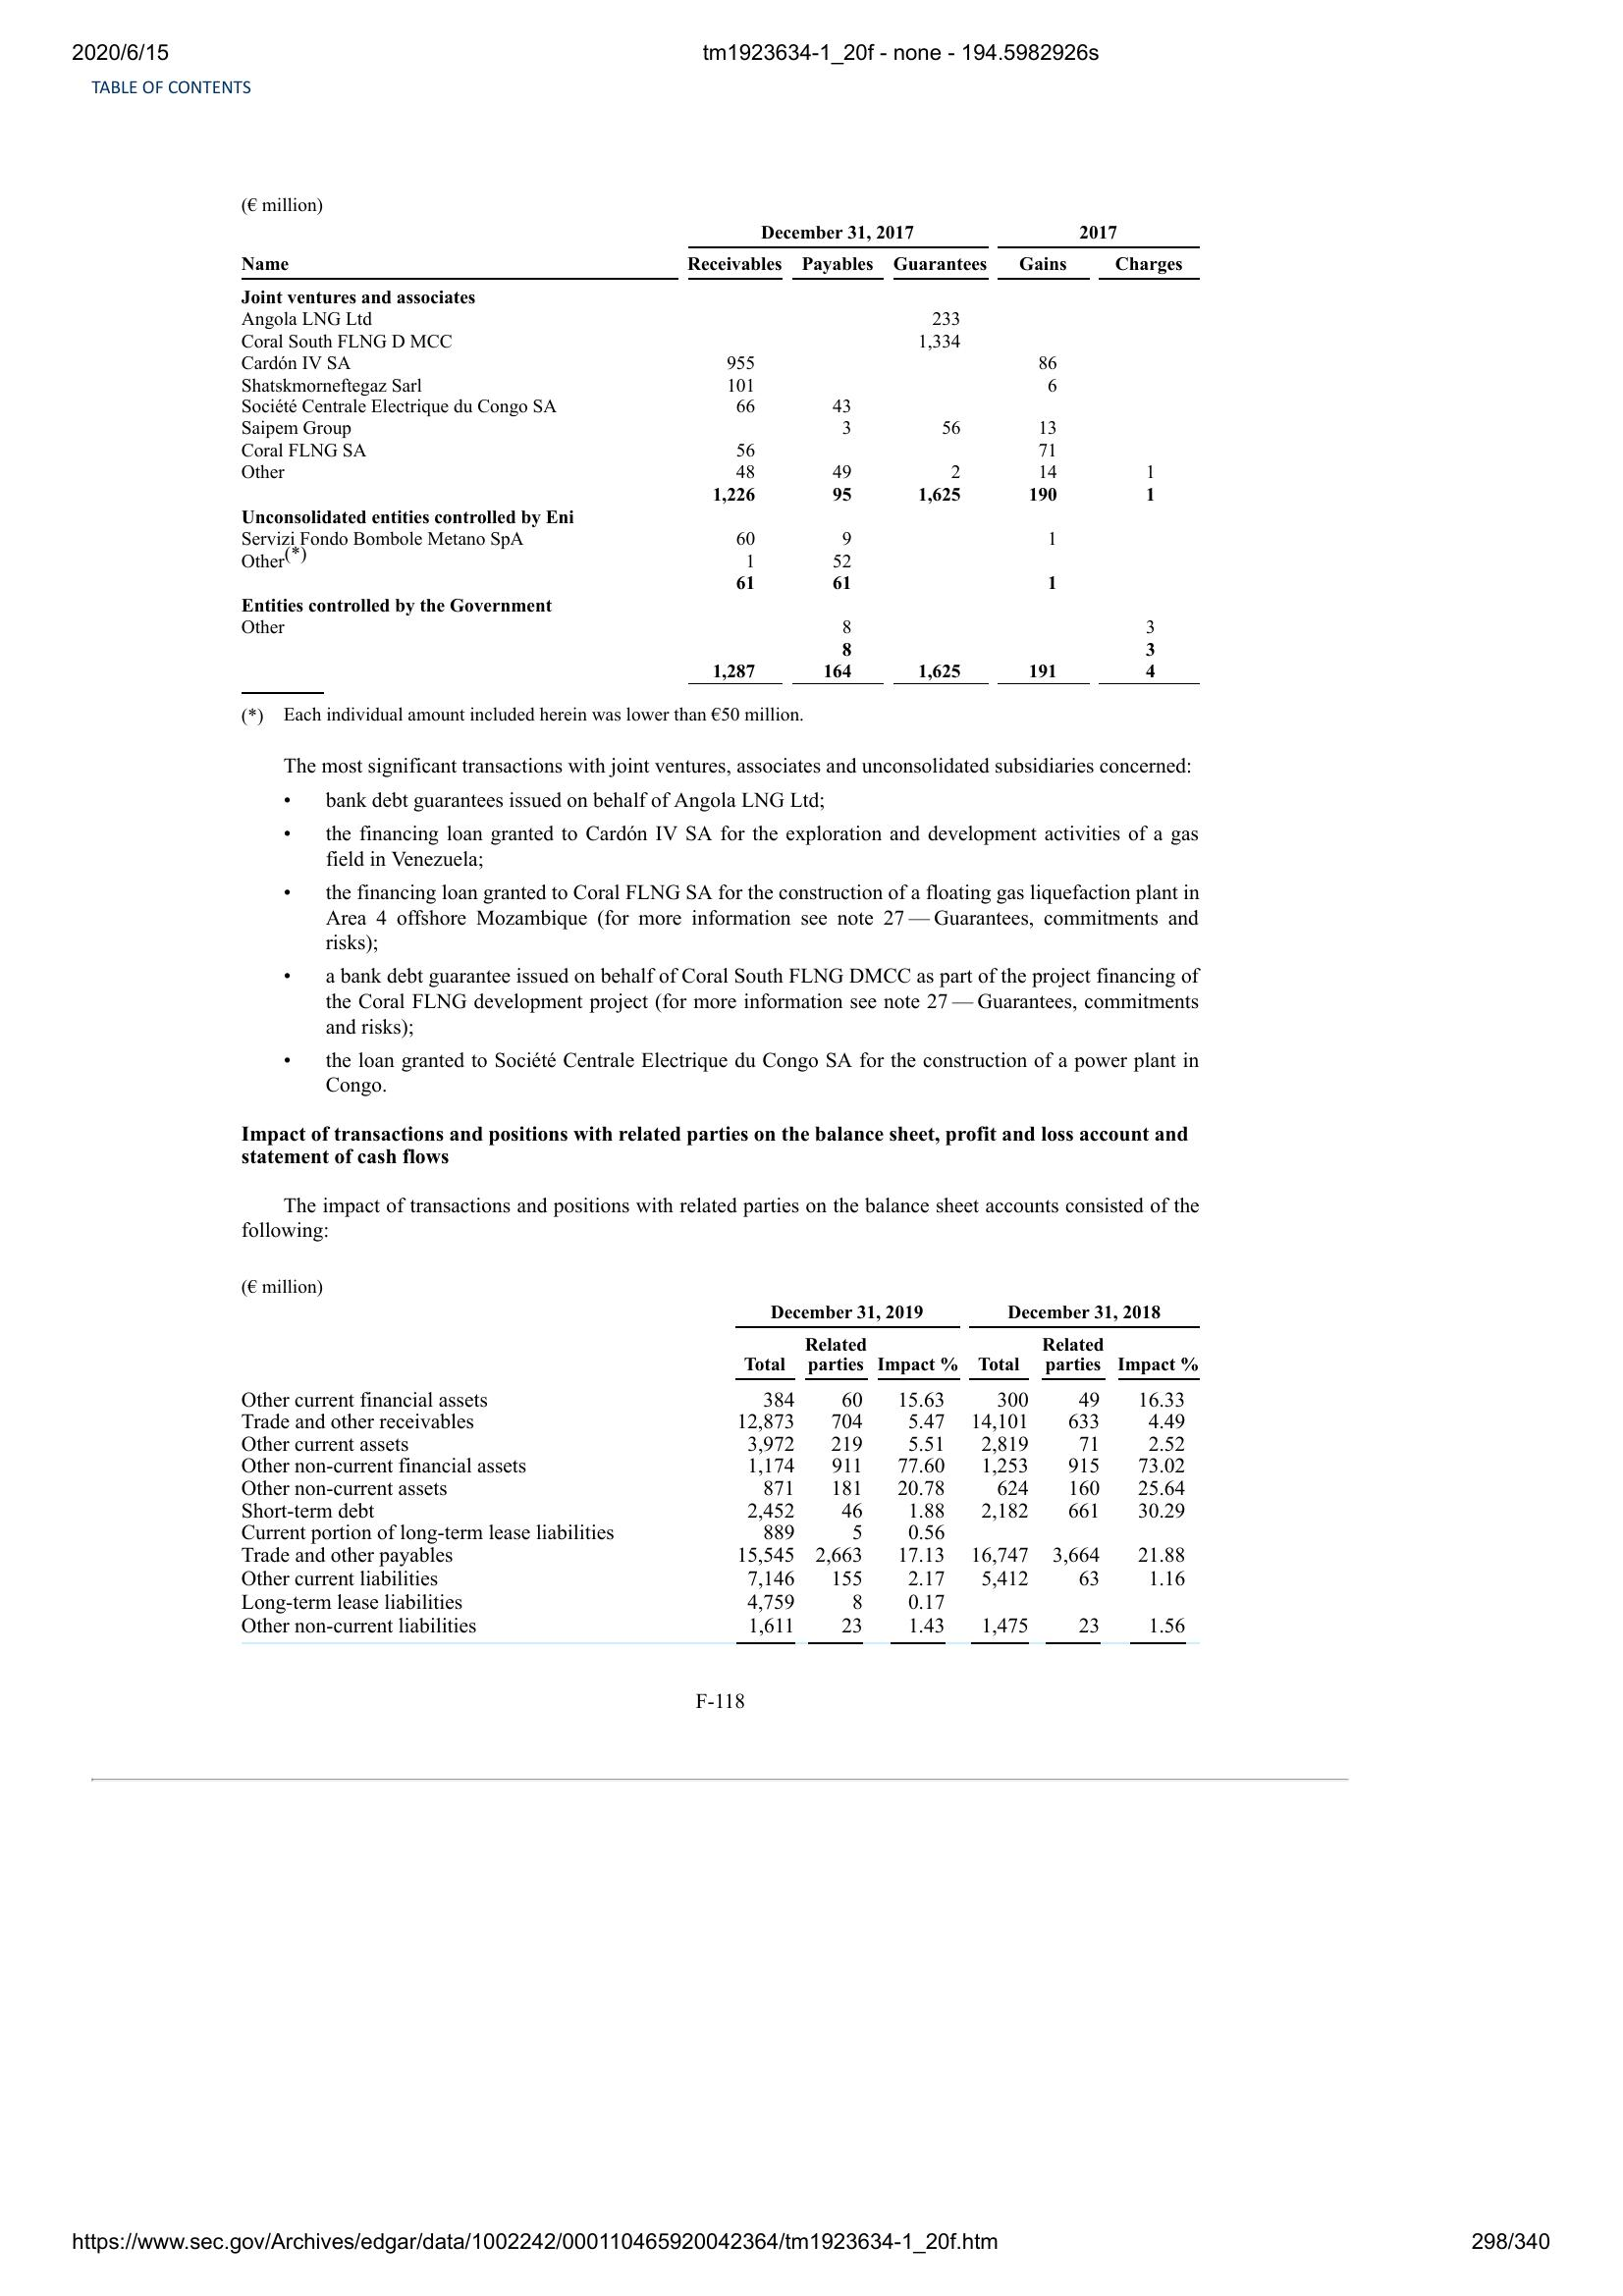table: (235, 221, 1201, 690), (235, 1301, 1200, 1647)
